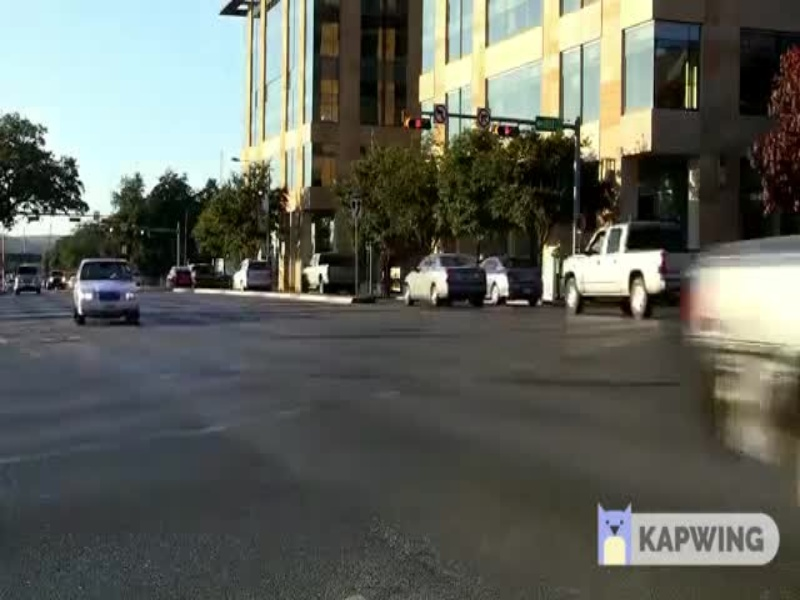car: (61, 253, 141, 333), (394, 251, 483, 308)
truck: (556, 205, 702, 319)
